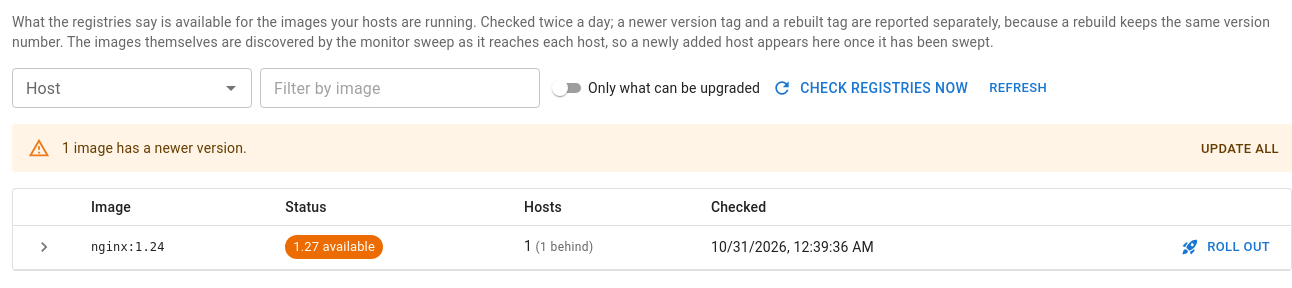
Test: ContainerUpdatesTab filtering › says a filter is hiding things rather than looking empty
Check: the text "nginx:1.24" is shown, box x1=75 y1=226 x2=269 y2=269
Type "nothing-matches-this" into the field with placeholder "Filter by image" at coordinates (400, 88), box x1=260 y1=68 x2=540 y2=108
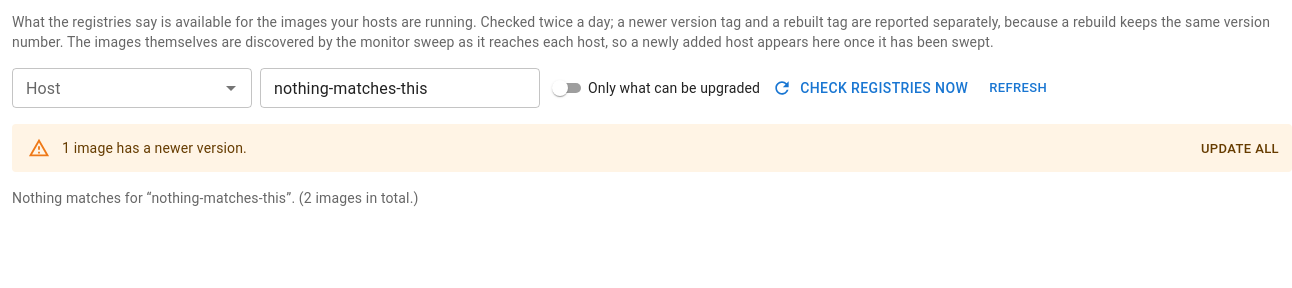
Check: the text "2 images in total" is shown, box x1=12 y1=190 x2=418 y2=206
